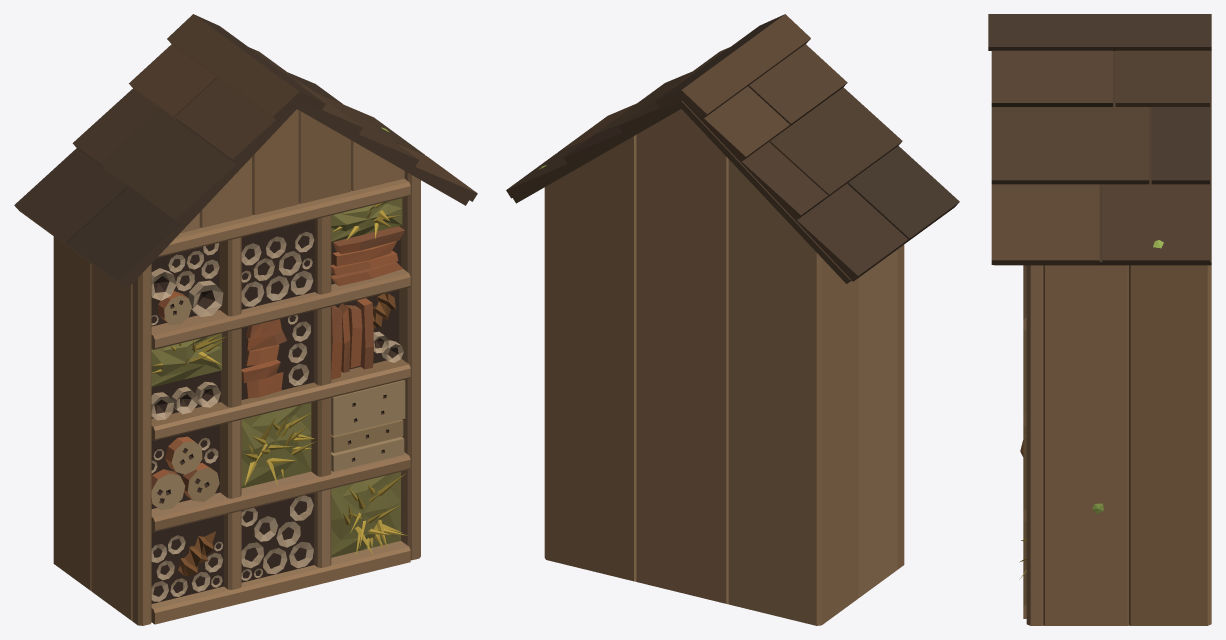
Rendered from insect-hotel-14d870.glb.
The picture shows the model from 3 angles, left to right: view 1: azimuth 30°, elevation 25°; view 2: azimuth 150°, elevation 25°; view 3: azimuth 270°, elevation 25°; orthographic projection. The views are drawn at different scales.
Parts seen in each view (by area): view 1: insect-hotel-body; view 2: insect-hotel-body; view 3: insect-hotel-body.
Boxes of the visible parts, x1,y1,x2,y2 form: insect-hotel-body: [14, 14, 477, 625]; insect-hotel-body: [506, 14, 959, 625]; insect-hotel-body: [988, 14, 1211, 625].
Bounding box in the file's own units: 13.22 × 18.04 × 6.76.
